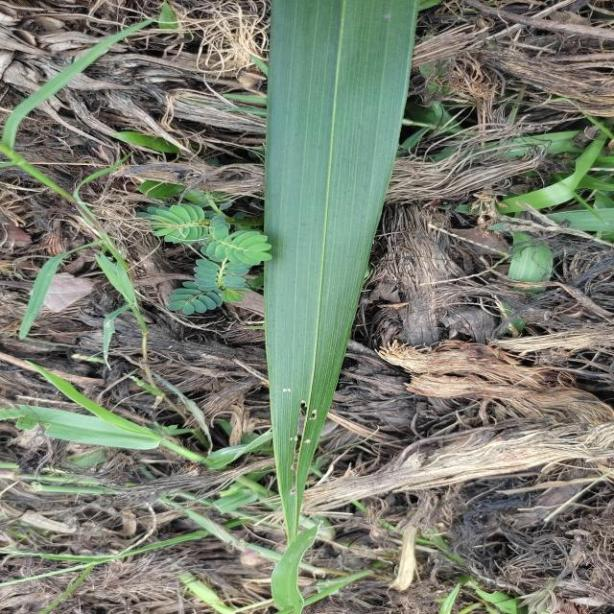Boron: (261, 0, 422, 614)
